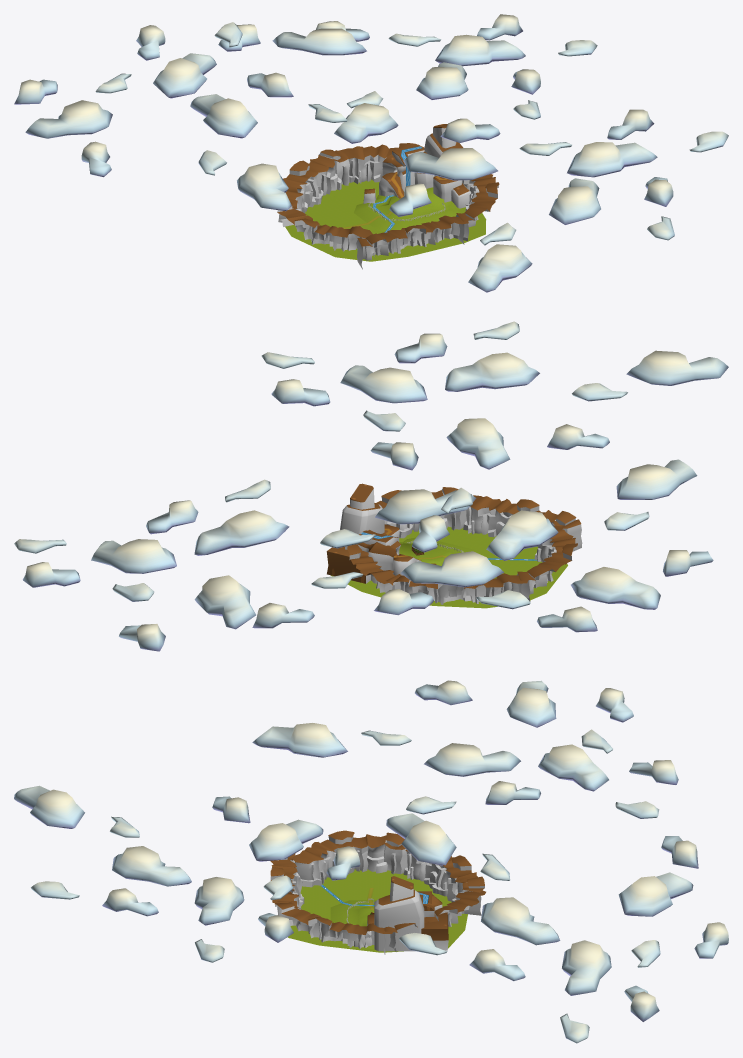
The model's file is environment.FBX.
3 views of the same model, one above another, from view 1: azimuth 30°, elevation 25°; view 2: azimuth 150°, elevation 25°; view 3: azimuth 270°, elevation 25° (orthographic). The views are drawn at different scales.
Parts seen in each view (by area): view 1: Clouds, ground01, rockMtn, Perif04, Perif01, ground02, Perif05, Perif03, Perif02; view 2: Clouds, rockMtn, ground01, Perif01, Perif04, Perif05, Perif02, Perif03, ground02; view 3: Clouds, ground01, rockMtn, Perif05, Perif04, Perif02, Perif03, Perif01, ground02.
Boxes of the visible parts, x1,y1,x2,y2 form: Clouds: (14, 14, 728, 292); ground01: (285, 179, 486, 261); rockMtn: (379, 124, 471, 208); Perif04: (278, 149, 349, 226); Perif01: (356, 215, 468, 269); ground02: (354, 187, 461, 231); Perif05: (277, 199, 374, 256); Perif03: (339, 143, 424, 183); Perif02: (456, 174, 499, 244); Clouds: (14, 321, 728, 651); rockMtn: (326, 483, 421, 583); ground01: (331, 526, 567, 608); Perif01: (463, 495, 582, 551); Perif04: (385, 573, 530, 604); Perif05: (517, 525, 578, 594); Perif02: (376, 487, 466, 538); Perif03: (345, 544, 394, 592); ground02: (399, 537, 484, 565); Clouds: (14, 680, 728, 1043); ground01: (288, 869, 467, 952); rockMtn: (354, 876, 448, 951); Perif05: (291, 830, 407, 887); Perif04: (403, 849, 484, 915); Perif02: (274, 901, 396, 951); Perif03: (383, 890, 485, 954); Perif01: (270, 853, 304, 925); ground02: (330, 900, 376, 948).
Bounding box in the file's own units: 460 × 484 × 79.71.
